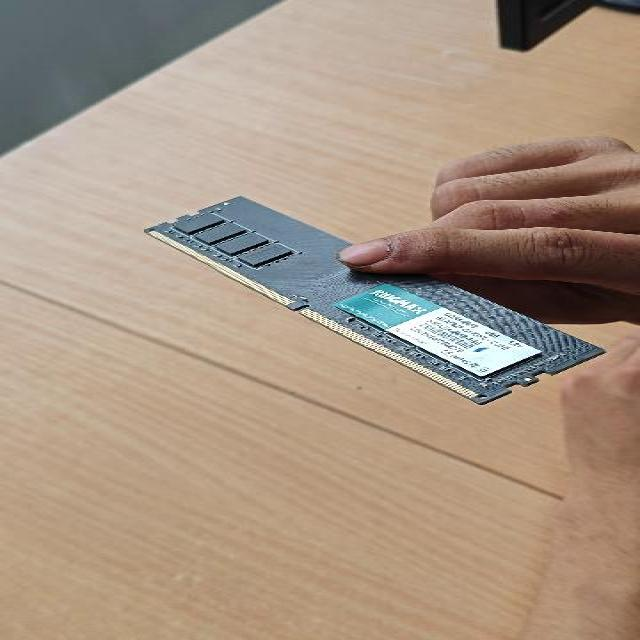RAM: (141, 195, 609, 407)
